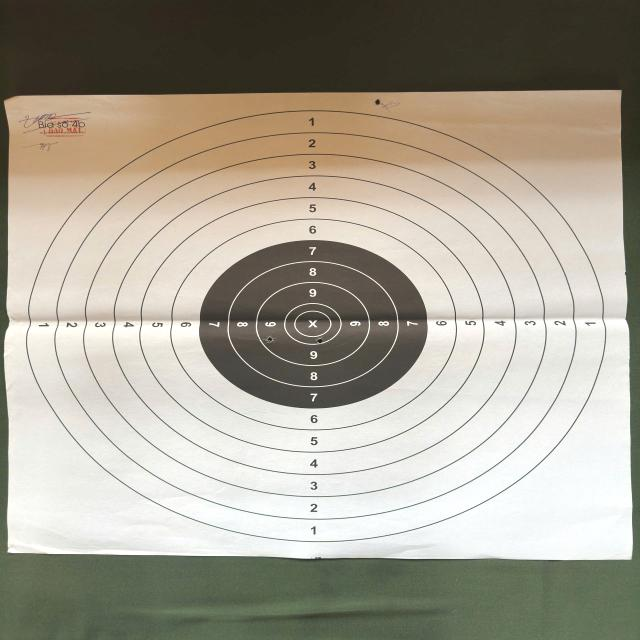bullet: (264, 336, 272, 344), (316, 336, 324, 344), (376, 100, 380, 104)
target: (4, 92, 620, 560)
